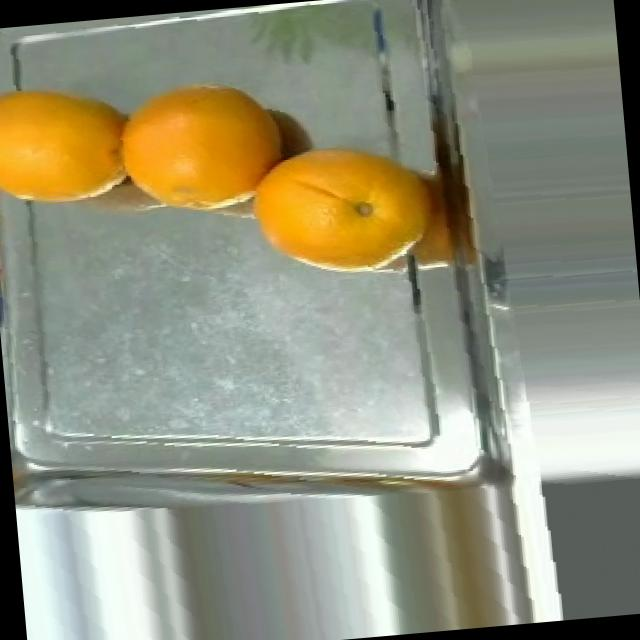Fruit: (230, 123, 453, 294), (0, 70, 161, 224)
